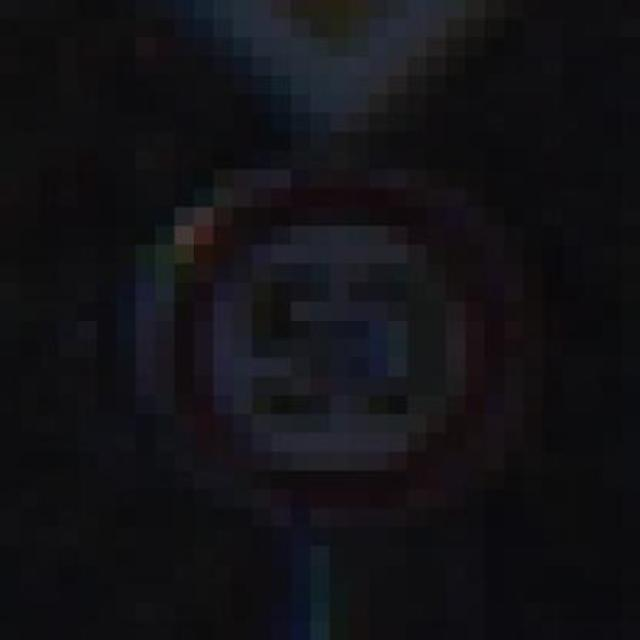50 mph speed limit: (97, 150, 563, 508)
